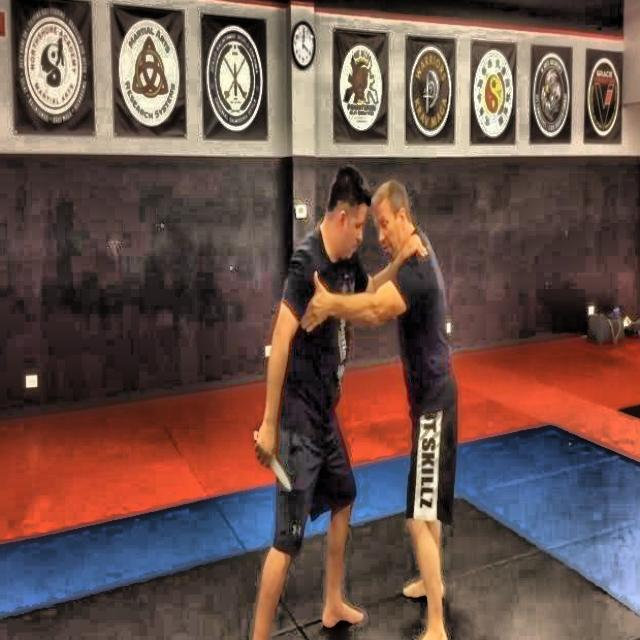knife: (255, 432, 290, 492)
